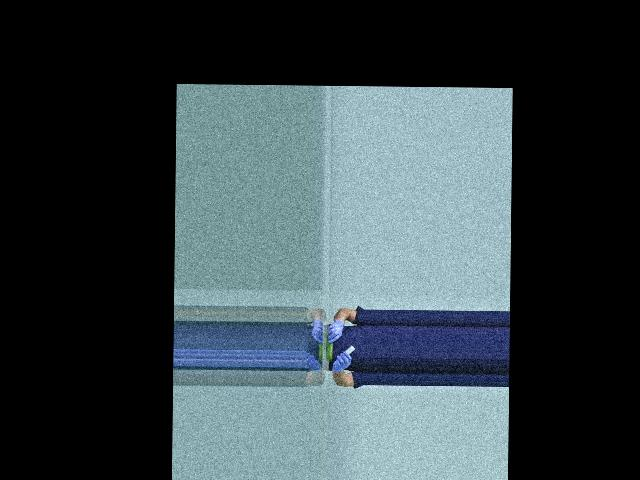cucumber: (325, 334, 333, 362)
